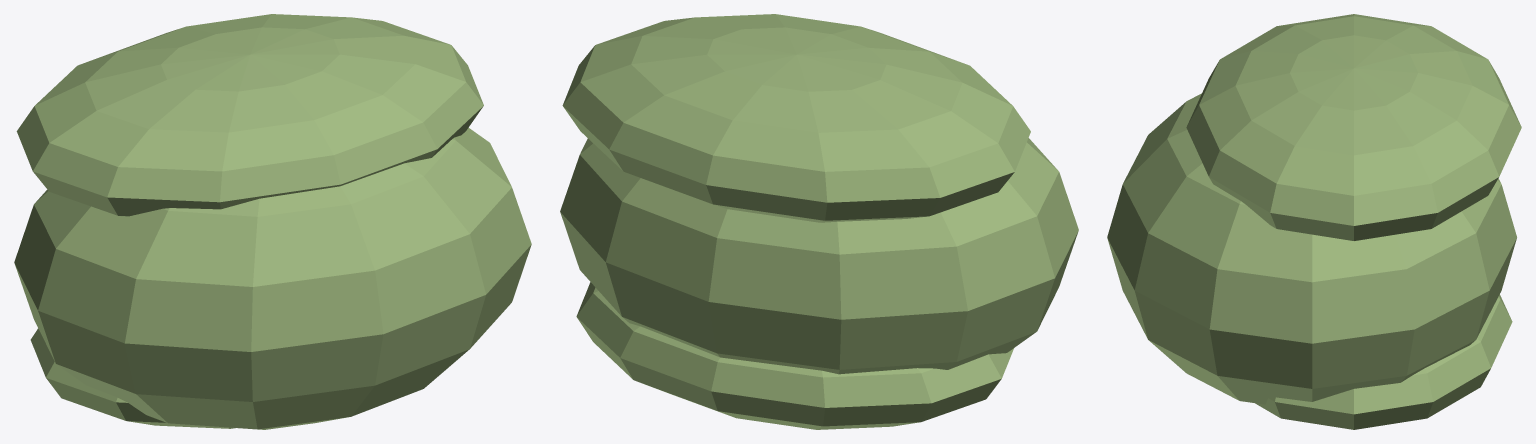
Rendered from SM_Orc_Spine.fbx.
The picture shows the model from 3 angles, left to right: view 1: azimuth 30°, elevation 25°; view 2: azimuth 150°, elevation 25°; view 3: azimuth 270°, elevation 25°; orthographic projection. The views are drawn at different scales.
Parts seen in each view (by area): view 1: SM_Orc_Spine; view 2: SM_Orc_Spine; view 3: SM_Orc_Spine.
Part boxes in pixels (<box>): SM_Orc_Spine: <box>14,14,531,429</box>; SM_Orc_Spine: <box>560,14,1078,429</box>; SM_Orc_Spine: <box>1107,14,1521,429</box>.
Size of the model in its own units: 0.54 by 0.37 by 0.445.
